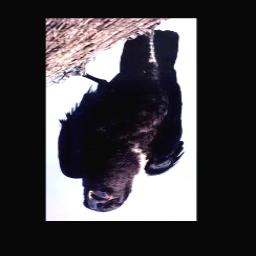Crow: (55, 24, 187, 214)
